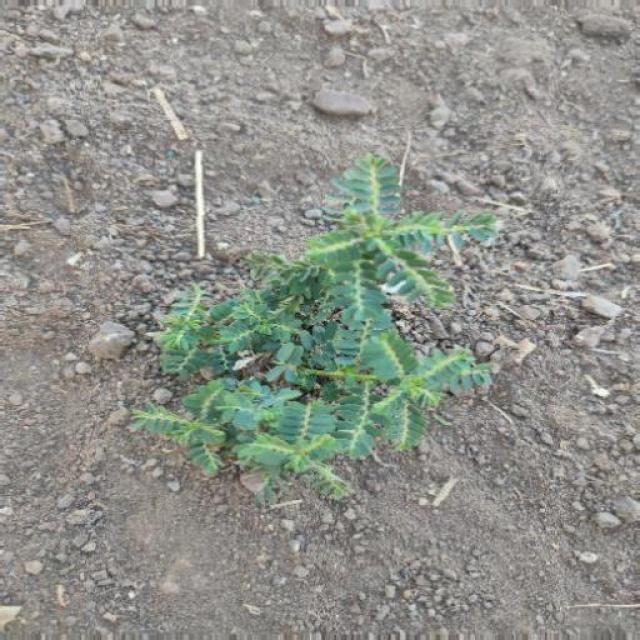weed: (148, 167, 500, 492)
